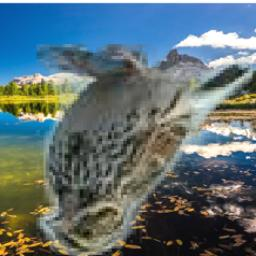Sparrow: (36, 45, 252, 256)
